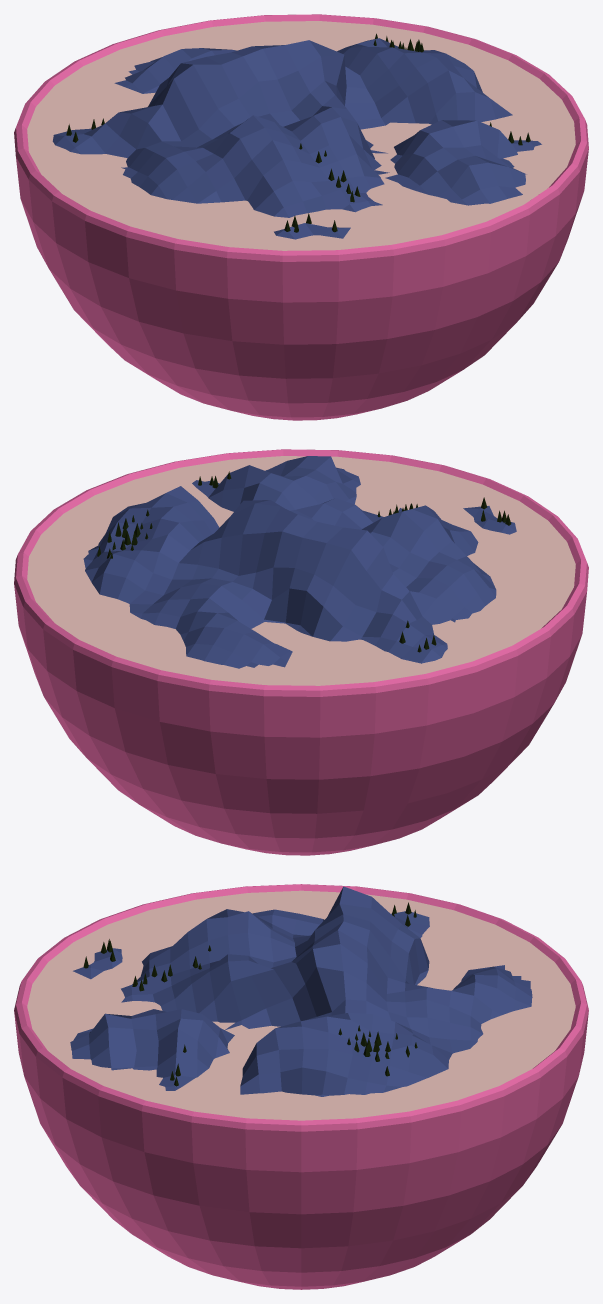
File: icon-sechelt-2.dae
3 views of the same model, one above another, from view 1: azimuth 30°, elevation 25°; view 2: azimuth 150°, elevation 25°; view 3: azimuth 270°, elevation 25° (orthographic).
Visible parts, largest first — view 1: base, mountains, water, trees; view 2: base, mountains, water, trees; view 3: base, mountains, water, trees.
Boxes of the visible parts, x1,y1,x2,y2 form: base: (14,14,588,420); mountains: (52,38,541,239); water: (27,21,575,250); trees: (66,33,530,232); base: (14,449,588,855); mountains: (83,456,516,668); water: (27,456,575,685); trees: (97,471,511,652); base: (14,884,588,1289); mountains: (70,886,532,1096); water: (27,890,575,1120); trees: (83,902,417,1086).
Size of the model in its own units: 199 by 128 by 199.
